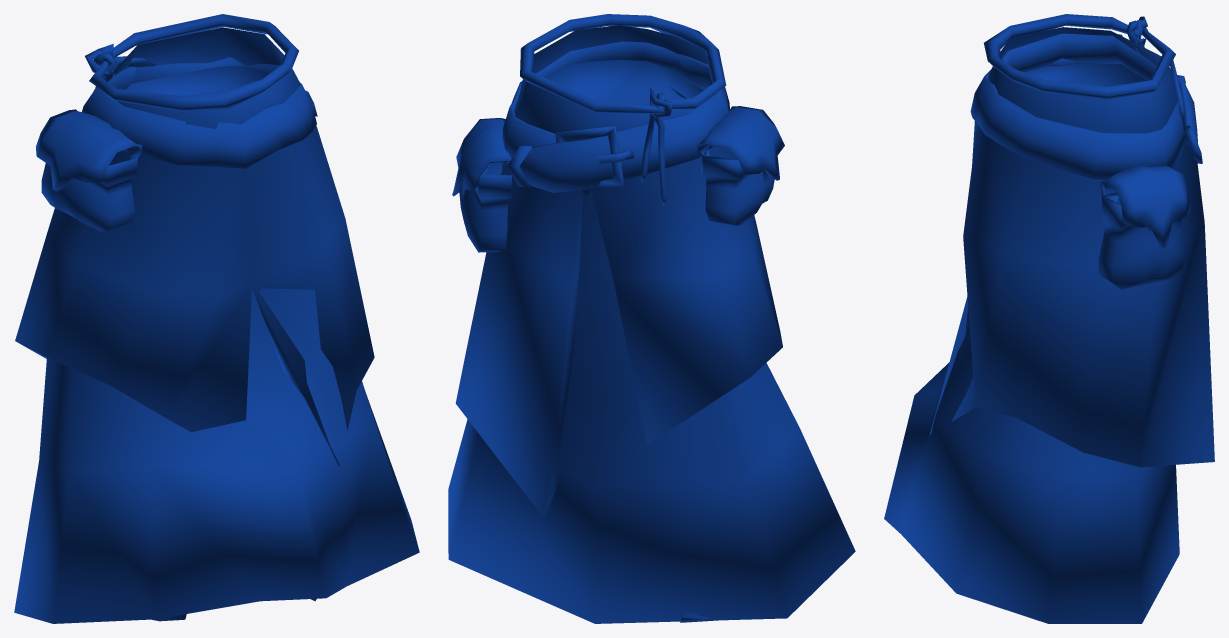
Rendered from bot_000034.obj.
The picture shows the model from 3 angles, left to right: view 1: azimuth 30°, elevation 25°; view 2: azimuth 150°, elevation 25°; view 3: azimuth 270°, elevation 25°; orthographic projection. The views are drawn at different scales.
Parts seen in each view (by area): view 1: Wizard.001_Plane.000; view 2: Wizard.001_Plane.000; view 3: Wizard.001_Plane.000.
Part boxes in pixels (bbox=[...]): Wizard.001_Plane.000: bbox=[14, 14, 419, 623]; Wizard.001_Plane.000: bbox=[448, 14, 855, 623]; Wizard.001_Plane.000: bbox=[884, 14, 1214, 623].
Size of the model in its own units: 0.8352 by 1.12 by 0.6431.
